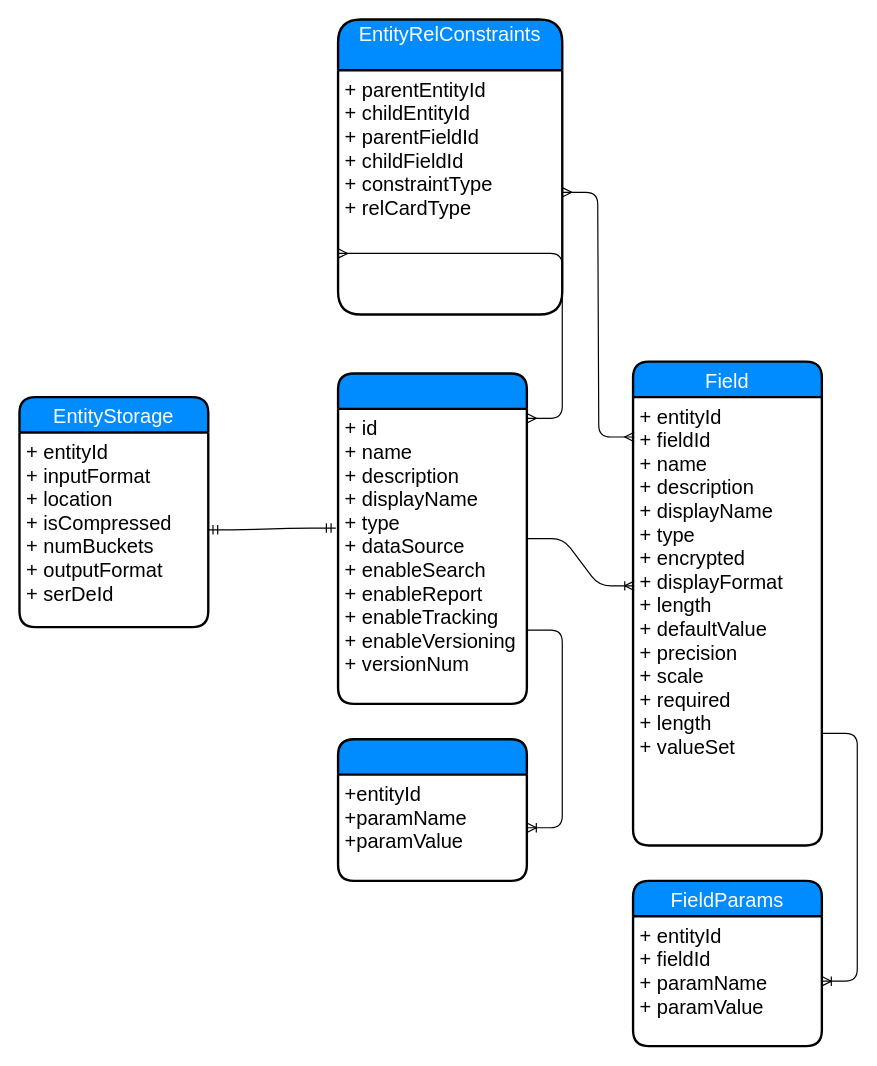
The diagram is 877 pixels wide and 1066 high, and some of its shapes have lost their labels. The shapes that lost their labels are listed below. From the top down, each one's box as (x1, y1, x2, y2) in pixels, then its label:
(336, 372, 527, 704): Entity
(336, 738, 527, 881): EntityParams
